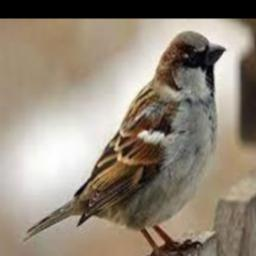Sparrow: (24, 31, 225, 256)
